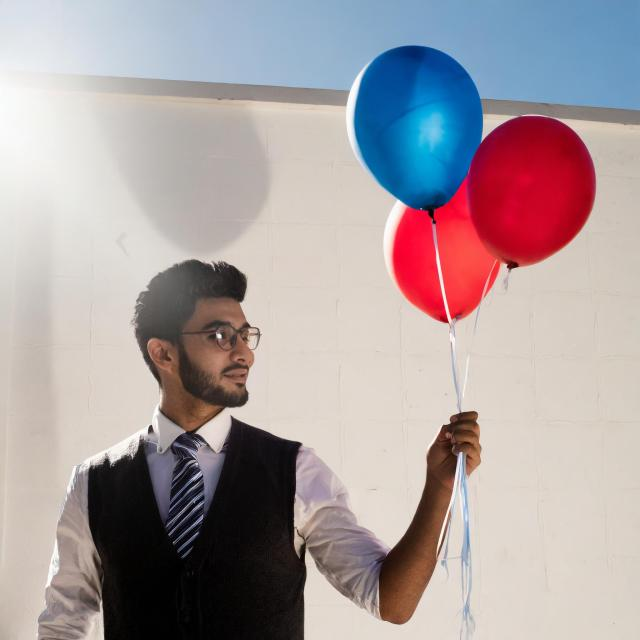blue: (348, 47, 482, 213)
red: (472, 117, 599, 278), (384, 179, 502, 328)
